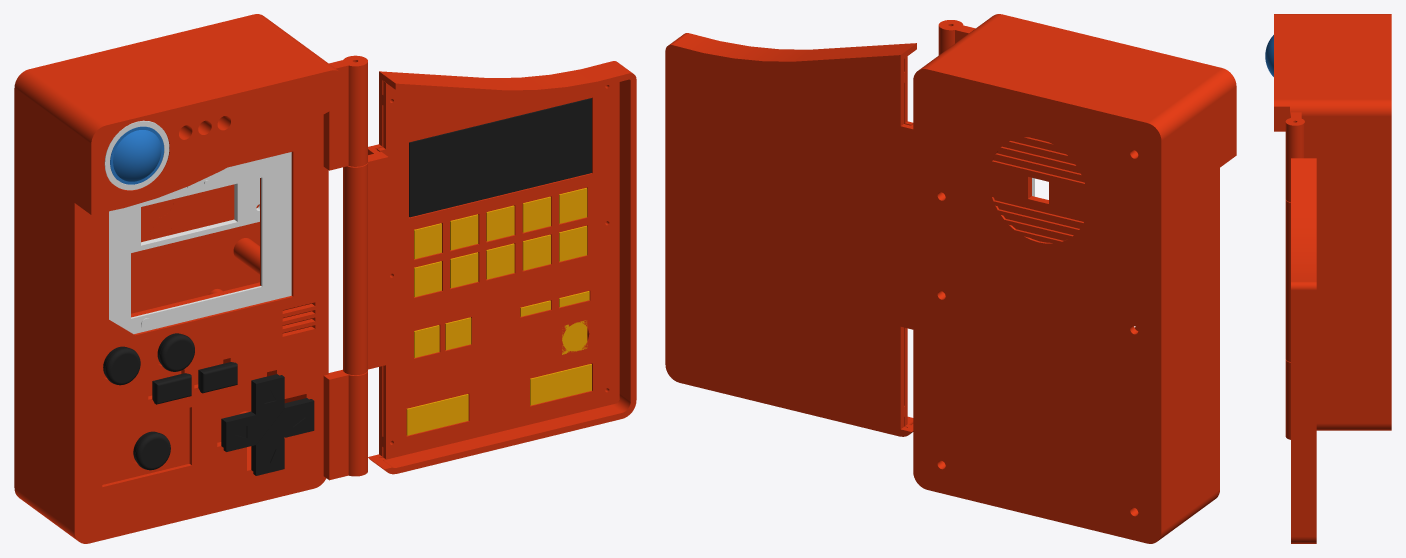
File: pokedex.fbx
The picture shows the model from 3 angles, left to right: view 1: azimuth 30°, elevation 25°; view 2: azimuth 150°, elevation 25°; view 3: azimuth 270°, elevation 25°; orthographic projection. The views are drawn at different scales.
Visible parts, largest first — view 1: LeftTub, LidFacePlate, RightLid, BackPlate, Dummy_Screen_R, ScreenBezel, Cap_DPad, Dome_Lens, LCDCrossPlate, DummyBtn_Wide_139, DummyBtn_Wide_190, Cap_Back (+16 smaller); view 2: BackPlate, RightLid, LeftTub; view 3: LeftTub, RightLid, BackPlate, Dome_Lens.
Boxes of the visible parts, x1=… form: LeftTub: x1=18, y1=17, x2=367, y2=543; LidFacePlate: x1=377, y1=81, x2=619, y2=460; RightLid: x1=343, y1=61, x2=636, y2=474; BackPlate: x1=14, y1=14, x2=267, y2=499; Dummy_Screen_R: x1=409, y1=98, x2=591, y2=217; ScreenBezel: x1=109, y1=152, x2=291, y2=334; Cap_DPad: x1=221, y1=374, x2=314, y2=475; Dome_Lens: x1=110, y1=126, x2=164, y2=184; LCDCrossPlate: x1=131, y1=178, x2=259, y2=252; DummyBtn_Wide_139: x1=406, y1=394, x2=468, y2=435; DummyBtn_Wide_190: x1=530, y1=364, x2=591, y2=405; Cap_Back: x1=157, y1=333, x2=194, y2=371; BackPlate: x1=913, y1=66, x2=1165, y2=543; RightLid: x1=665, y1=33, x2=916, y2=436; LeftTub: x1=923, y1=14, x2=1236, y2=537; LeftTub: x1=1274, y1=14, x2=1385, y2=439; RightLid: x1=1285, y1=158, x2=1316, y2=543; BackPlate: x1=1385, y1=14, x2=1391, y2=430; Dome_Lens: x1=1265, y1=35, x2=1273, y2=76.
Size of the model in its own units: 230 by 170 by 59.
